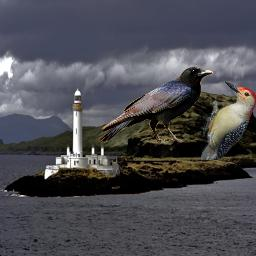Crow: (98, 65, 213, 143)
Woodpecker: (201, 81, 256, 160)
